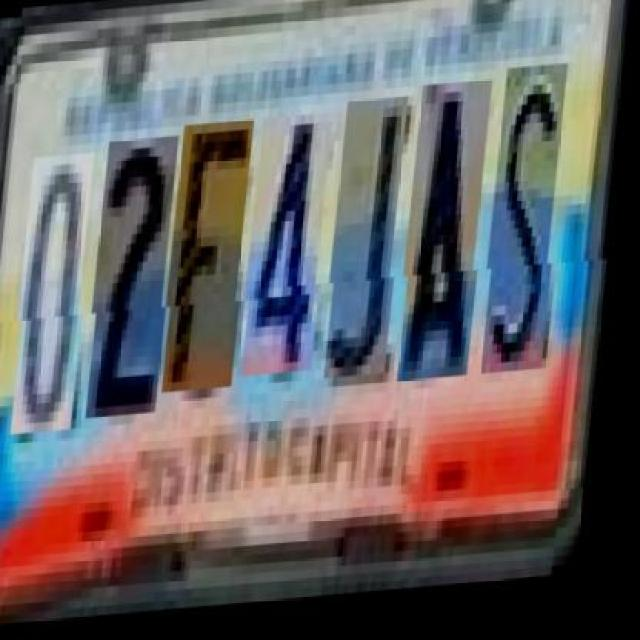2: (95, 138, 187, 422)
4: (250, 118, 341, 382)
a: (407, 88, 501, 389)
f: (170, 125, 262, 397)
j: (333, 104, 416, 385)
o: (20, 155, 103, 436)
s: (490, 74, 575, 383)
